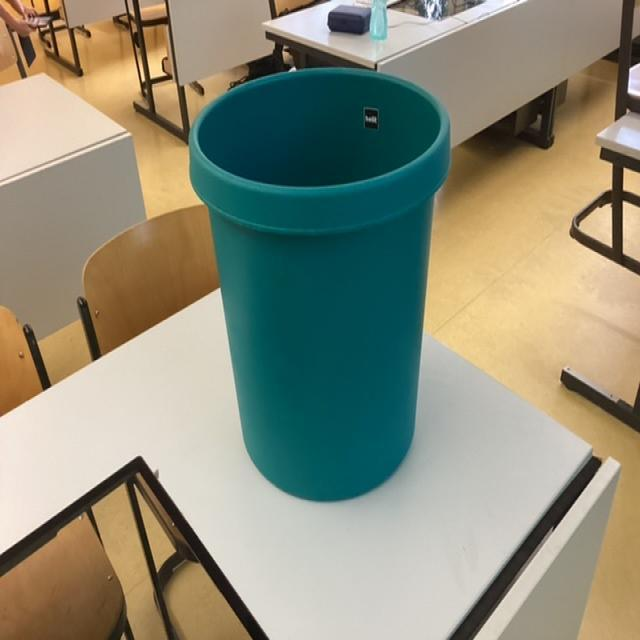garbage container: (173, 52, 450, 517)
